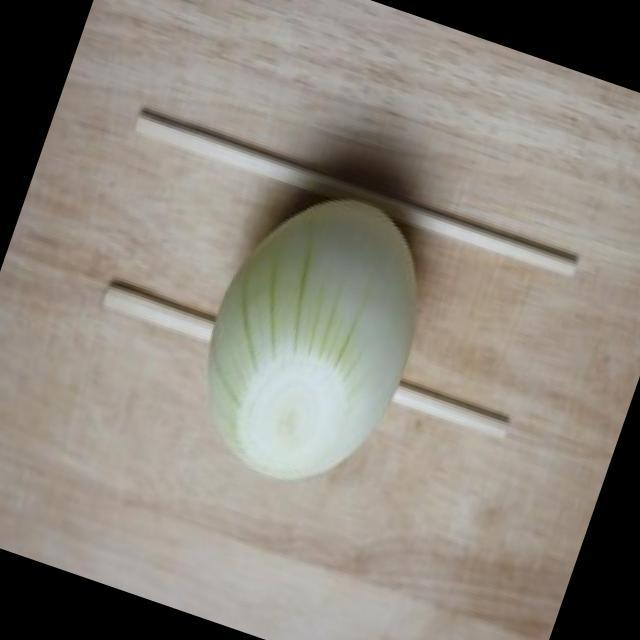Onion: (208, 197, 416, 480)
